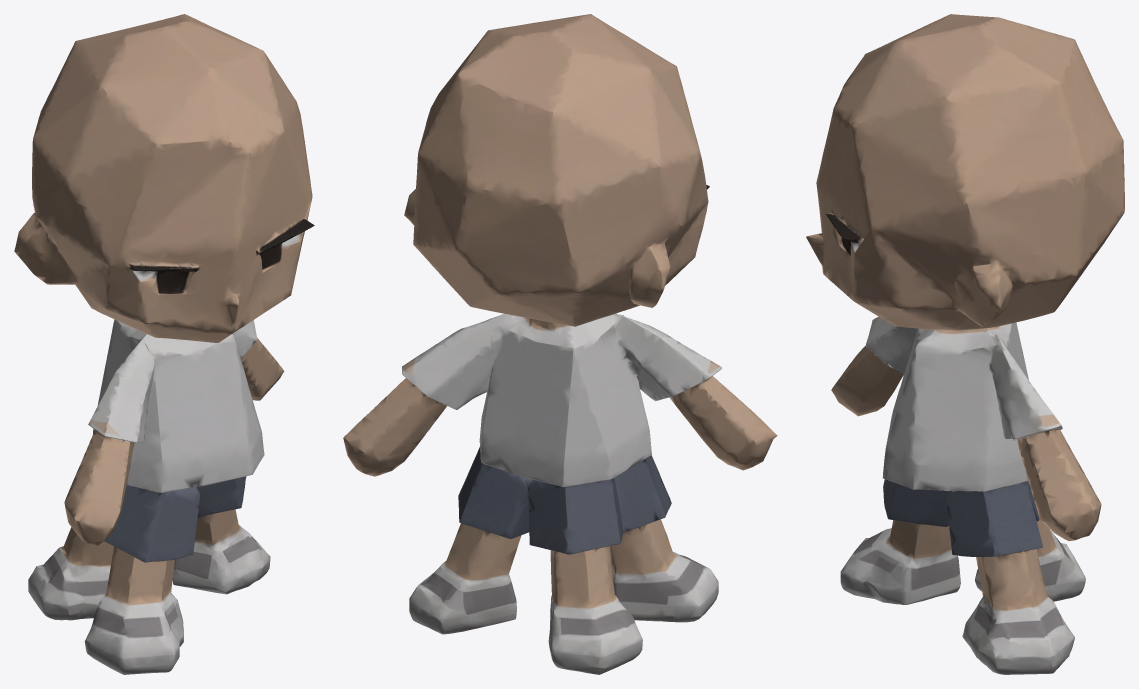
Rendered from _input_yawfixed.glb.
The picture shows the model from 3 angles, left to right: view 1: azimuth 30°, elevation 25°; view 2: azimuth 150°, elevation 25°; view 3: azimuth 270°, elevation 25°; orthographic projection. The views are drawn at different scales.
Visible parts, largest first — view 1: tripo_node_49d93a58-a97d-4455-9922-cc711d3215d2; view 2: tripo_node_49d93a58-a97d-4455-9922-cc711d3215d2; view 3: tripo_node_49d93a58-a97d-4455-9922-cc711d3215d2.
Part boxes in pixels (x1,y1,x2,y2): tripo_node_49d93a58-a97d-4455-9922-cc711d3215d2: [14, 14, 314, 674]; tripo_node_49d93a58-a97d-4455-9922-cc711d3215d2: [343, 14, 777, 674]; tripo_node_49d93a58-a97d-4455-9922-cc711d3215d2: [806, 14, 1124, 674].
Size of the model in its own units: 0.5575 by 1 by 0.482.
1 material, 1 textured.
